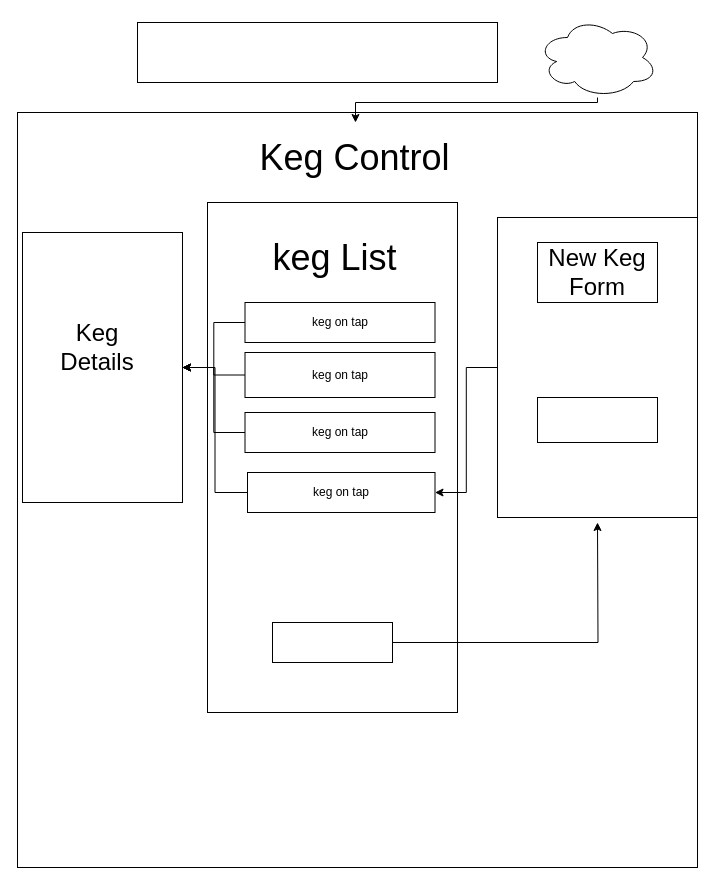
Some shapes in this 715 by 885 pixel diagram are drawn without their labels. Here are the shapes that lost their labels. From the top down, the centre of each, then its label:
(317,52): Header
(597,57): state
(597,419): submit button
(332,642): Button to add keg to tap
